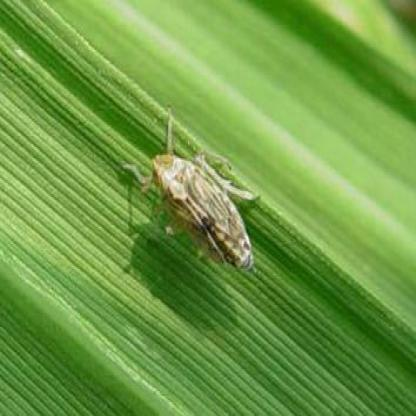brown-planthopper: (148, 147, 256, 272)
